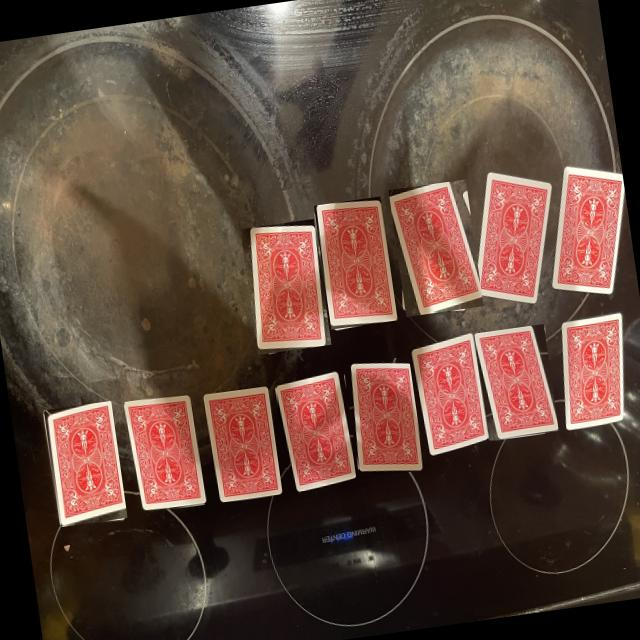card back: (389, 183, 481, 314), (316, 201, 396, 327), (474, 173, 550, 304), (46, 402, 125, 526), (275, 372, 355, 492), (474, 326, 557, 439), (249, 226, 324, 351), (551, 167, 624, 295), (124, 396, 205, 511), (411, 334, 487, 456), (204, 387, 281, 502), (348, 363, 420, 472), (560, 314, 622, 430)
